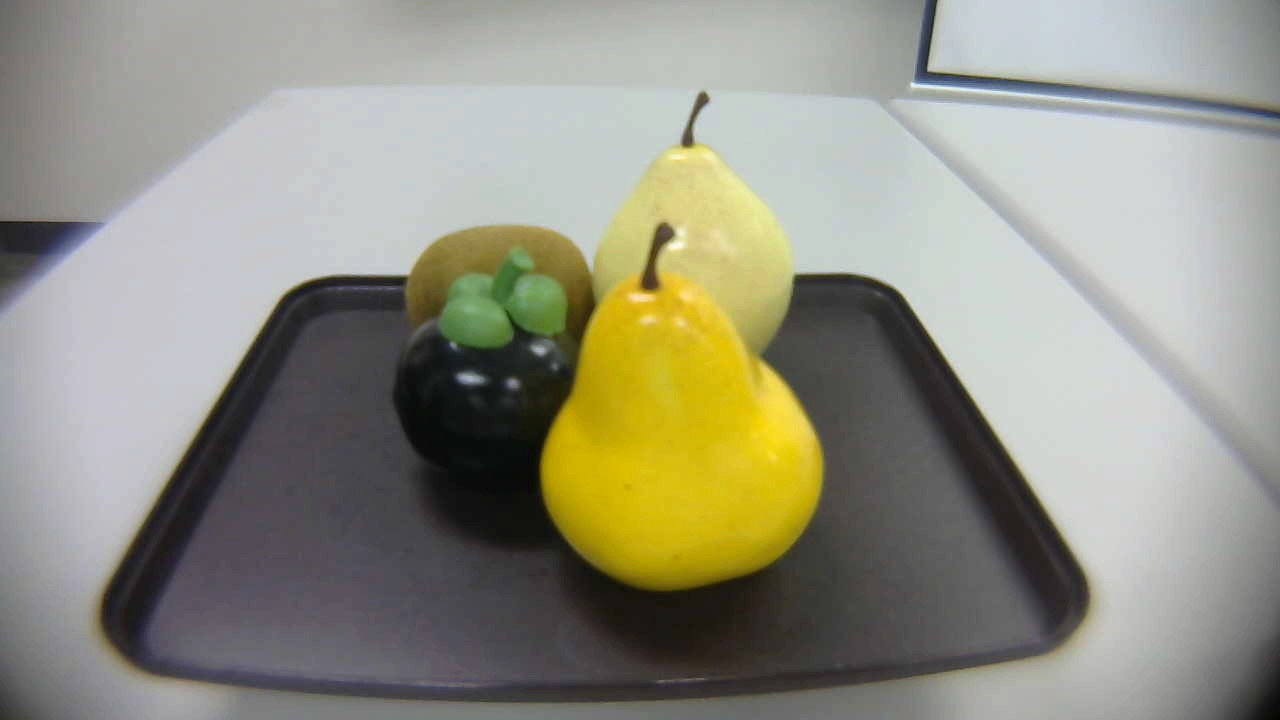kiwi fruit: (383, 206, 593, 351)
mangosteen: (388, 248, 583, 478)
western pear: (600, 83, 803, 403)
yellow pear: (530, 223, 833, 601)
